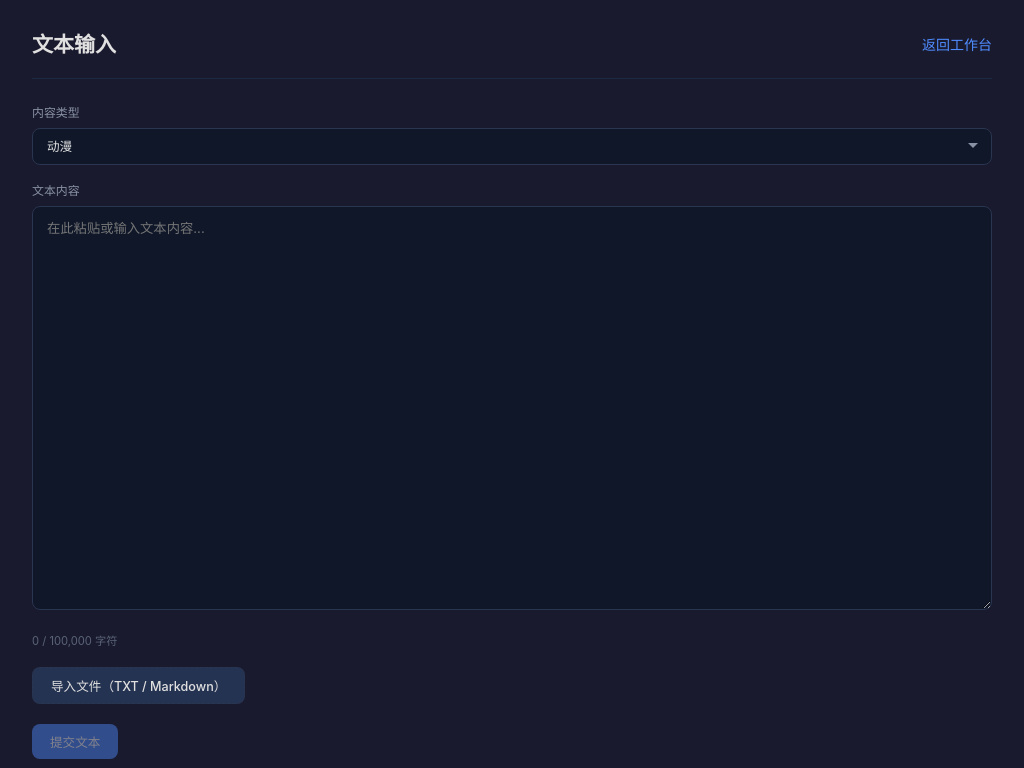
Test case: TextInputPage › 提交失败时显示错误信息
Type "这是一段足够长的测试文本内容用于提交" into the text box labelled "文本内容" at (512, 408), box [32,206,992,610]
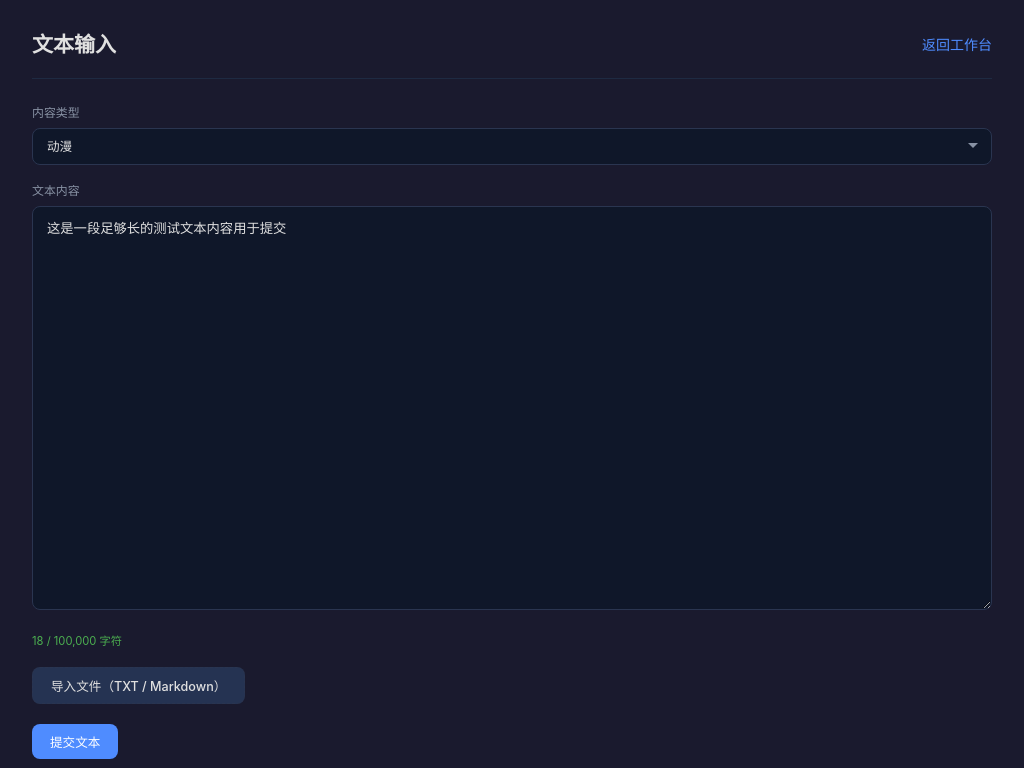
Click the button labelled "提交文本" at (75, 741), box [32,724,118,759]
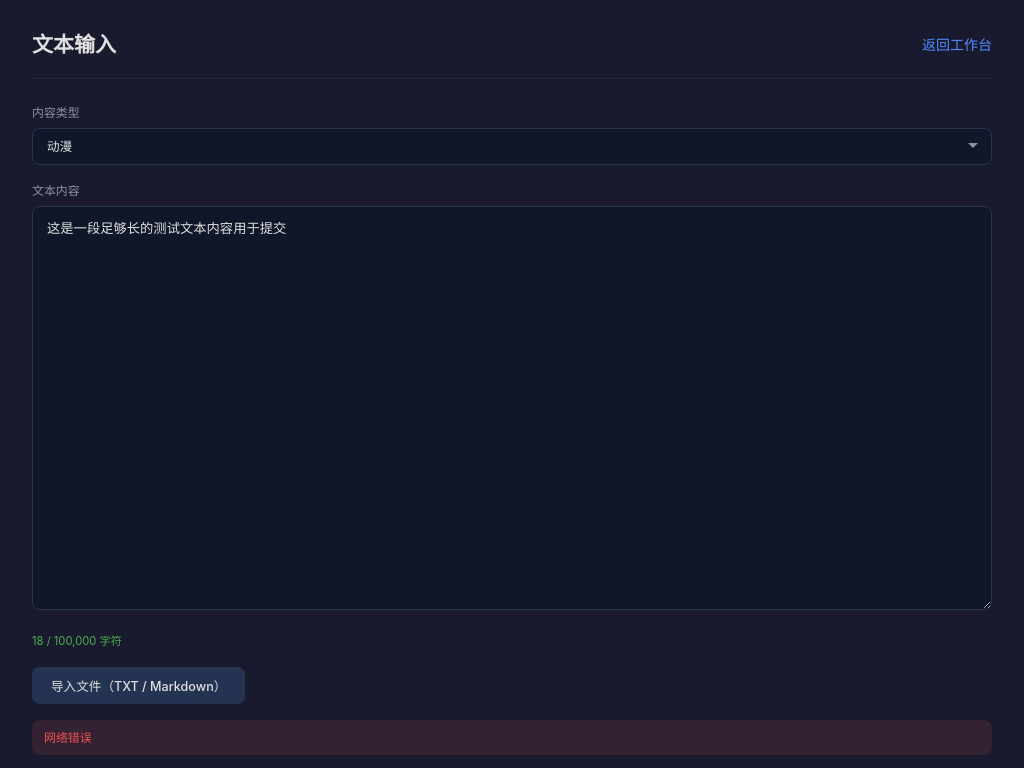
Expected: the message reads "网络错误", [44,730,92,745]
